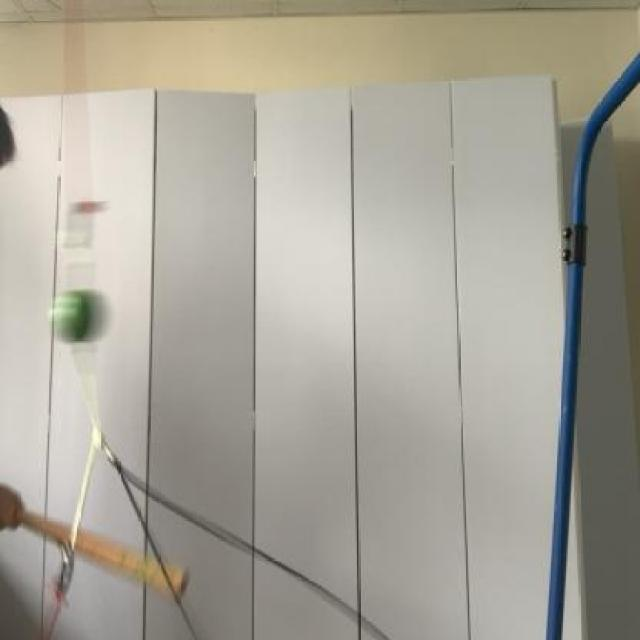baseball: (42, 276, 122, 352)
